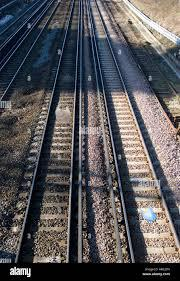Plastic: (49, 101, 74, 126), (130, 205, 161, 225)
